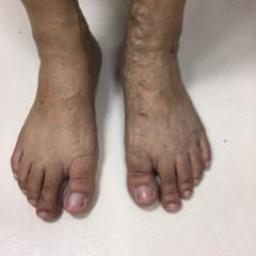Dorsal View -Both Feet-: (4, 10, 221, 236)
